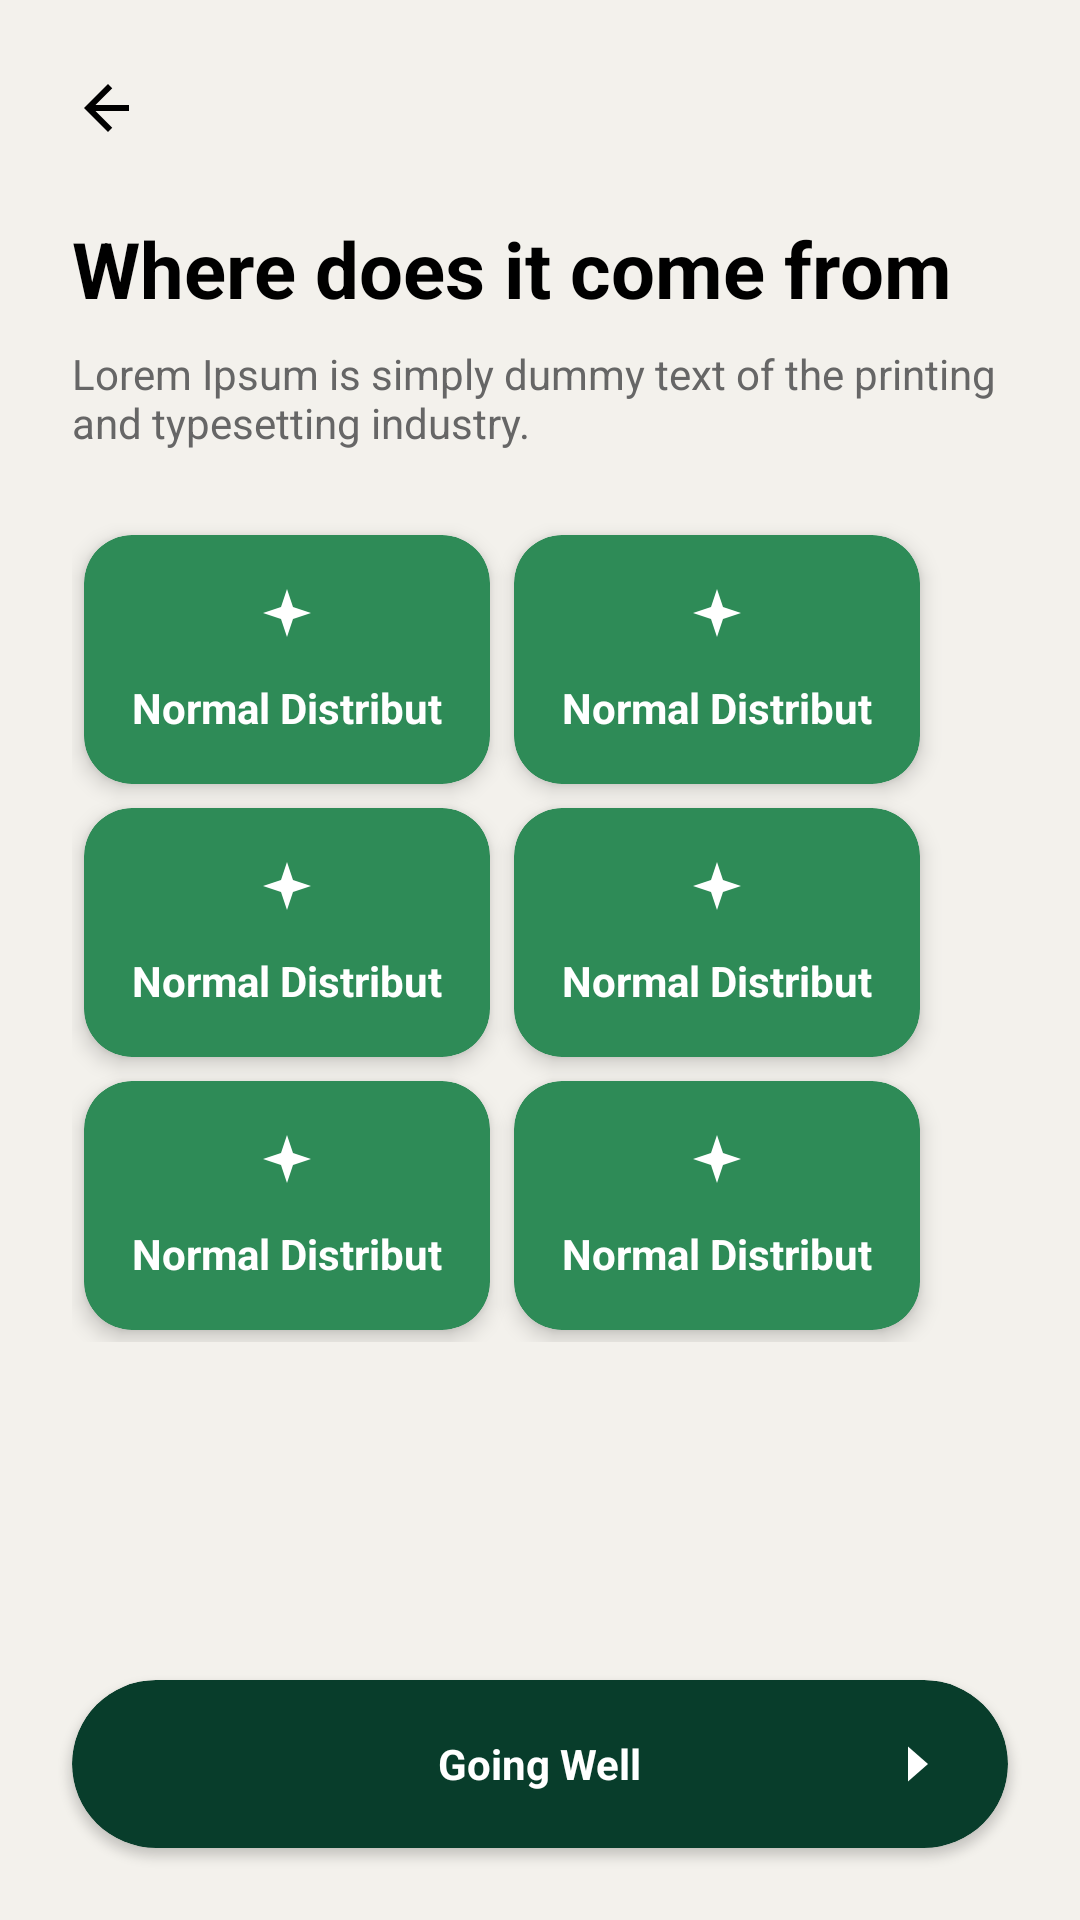

Screen size 1080*1920. Icon name, then its box in pixels as (left=x1, top=y1, right=x2, bottom=y2):
arrow right: (left=908, top=1746, right=928, bottom=1782)
back: (left=84, top=84, right=129, bottom=132)
stars: (left=263, top=589, right=311, bottom=637), (left=693, top=589, right=741, bottom=637), (left=263, top=862, right=311, bottom=910), (left=693, top=862, right=741, bottom=910), (left=263, top=1135, right=311, bottom=1183), (left=693, top=1135, right=741, bottom=1183)
